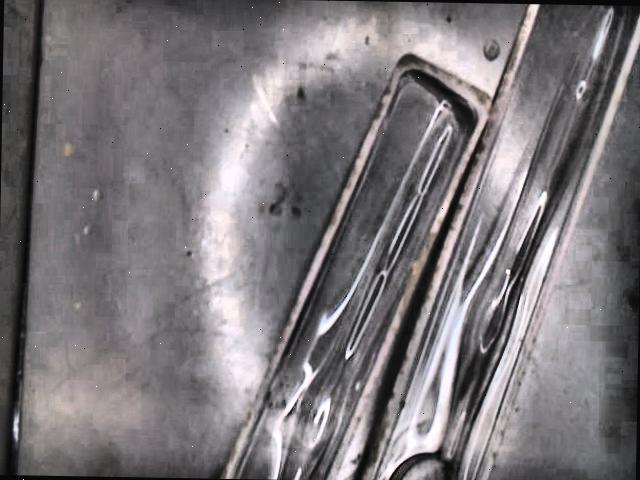Plastic: (355, 4, 640, 480), (219, 54, 491, 480)
